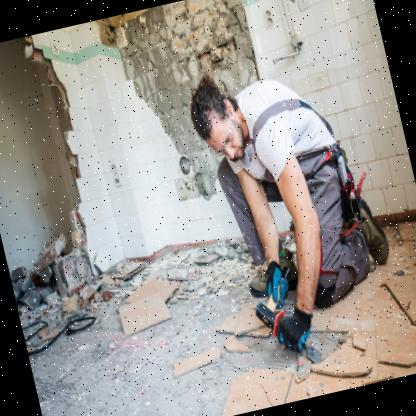bota: (360, 205, 390, 266)
oculos: (209, 122, 242, 160)
